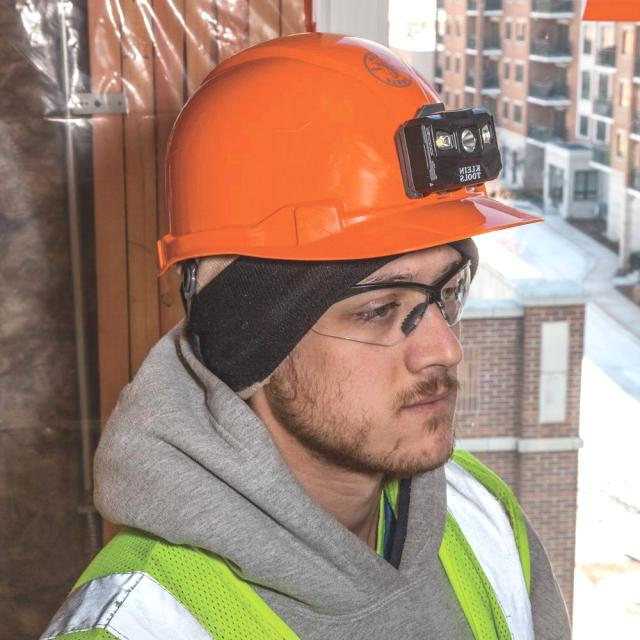face_nomask: (267, 235, 498, 485)
glasses: (288, 251, 486, 347)
head_helmet: (156, 26, 538, 263)
person: (38, 24, 575, 640)
vest: (46, 468, 547, 640)
